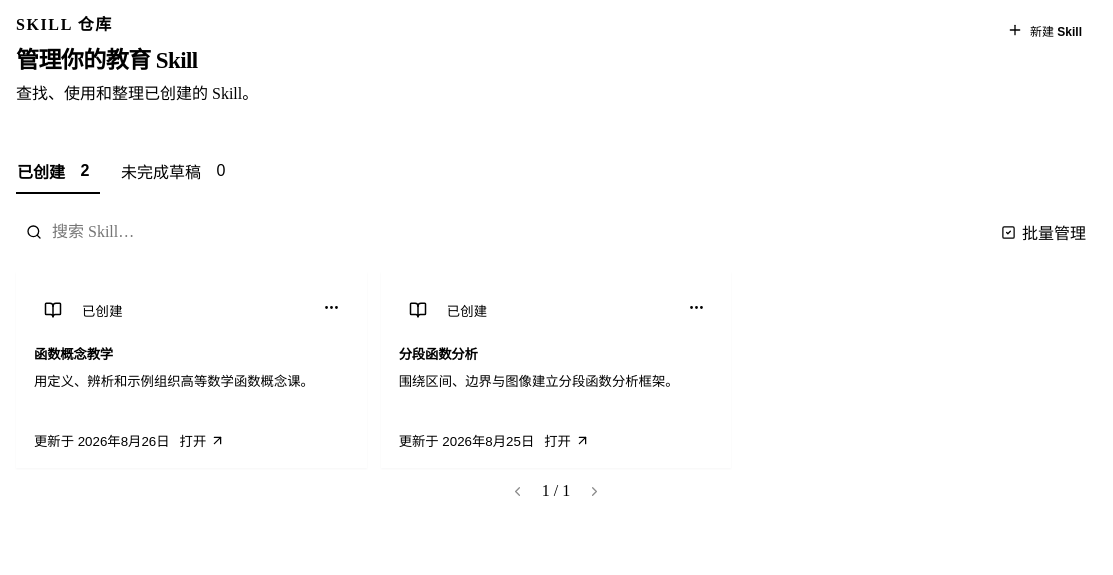
Test case: Skill repository cards › selects cards directly while batch management is active
Click the button "批量管理".
click(1044, 232)  # box [991,212,1096,252]
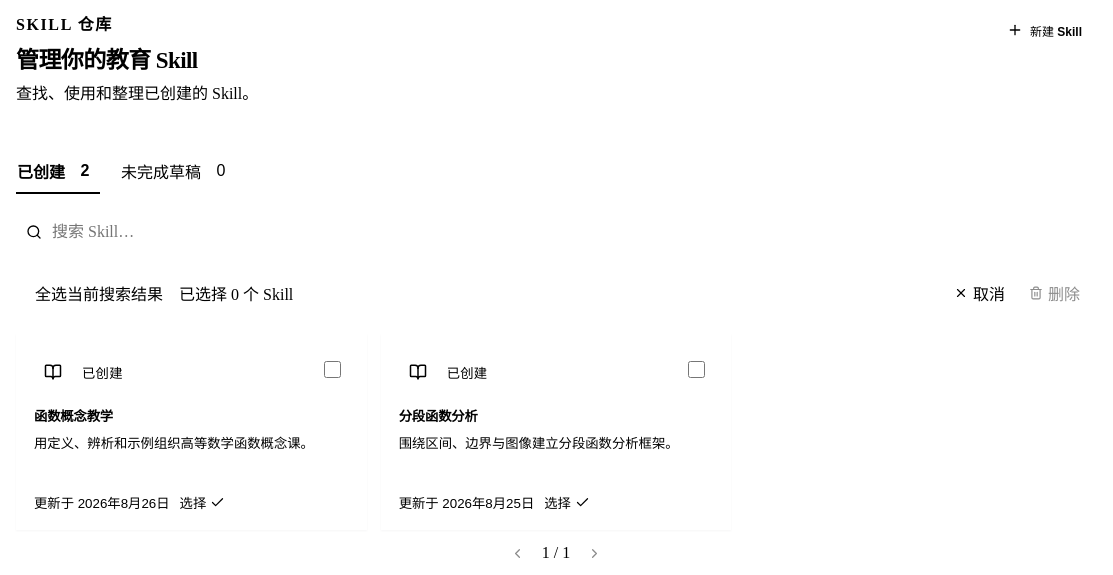
Expected: the checkbox named "选择 函数概念教学" is not checked, [324,360,341,378]
Expected: the button "打开" no longer shows "打开"
Click the button "已创建 函数概念教学 用定义、辨析和示例组织高等数学函数概念课。 更新于 2026年8月26日 选择".
click(102, 373)  # box [16,334,367,530]
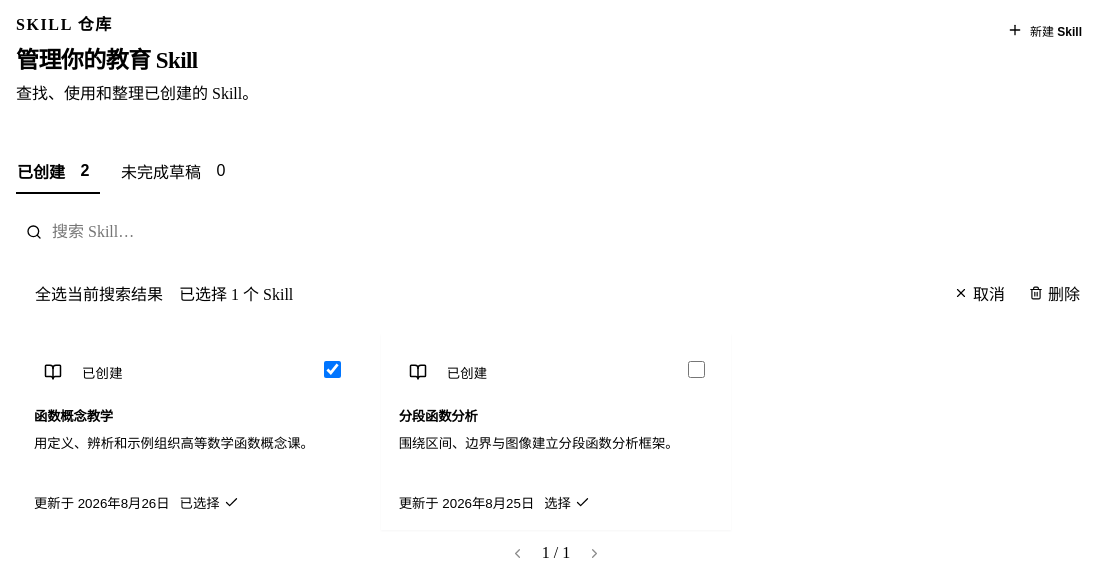
Expected: the checkbox named "选择 函数概念教学" is checked, [324,360,341,378]
Expected: the button "已创建 函数概念教学 用定义、辨析和示例组织高等数学函数概念课。 更新于 2026年8月26日 已选择" is shown, [16,334,367,530]
